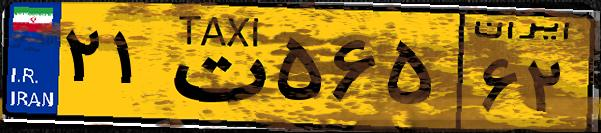1: (110, 28, 158, 98)
2: (57, 26, 110, 100), (525, 38, 570, 115)
5: (270, 28, 330, 110), (385, 28, 445, 110)
6: (330, 28, 385, 110), (475, 38, 525, 113)
ت: (158, 12, 270, 120)
